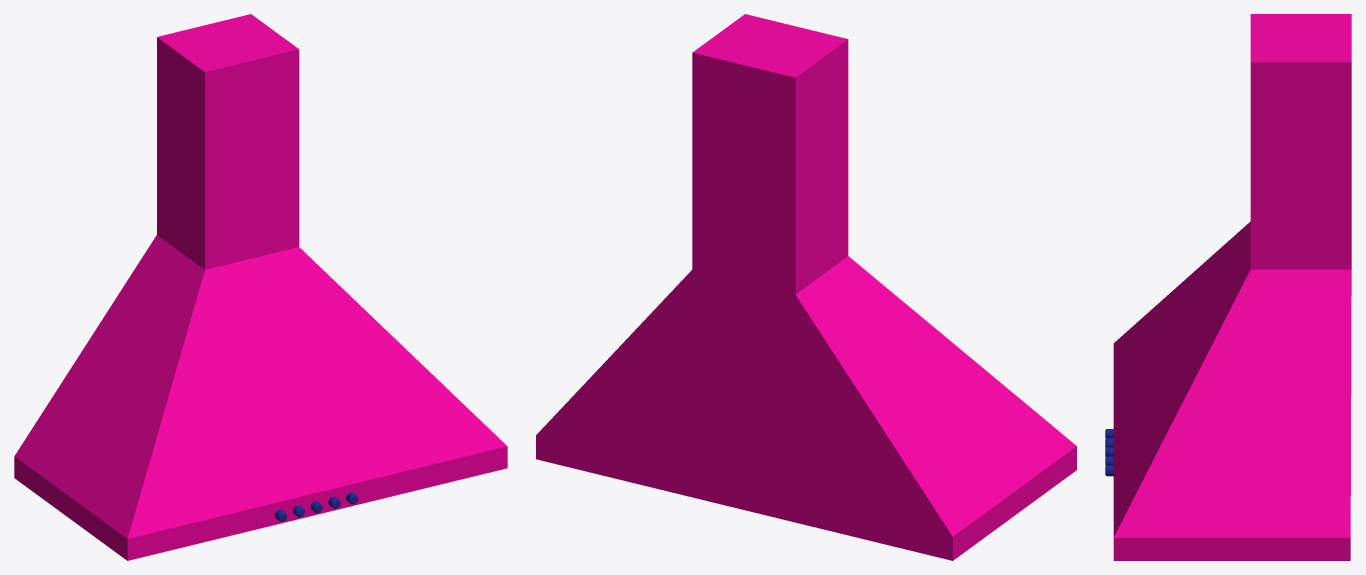
Rendered from Hood.fbx.
The picture shows the model from 3 angles, left to right: view 1: azimuth 30°, elevation 25°; view 2: azimuth 150°, elevation 25°; view 3: azimuth 270°, elevation 25°; orthographic projection. The views are drawn at different scales.
Parts seen in each view (by area): view 1: Box001; view 2: Box001; view 3: Box001.
Part boxes in pixels (x1=…): Box001: x1=14, y1=14, x2=507, y2=560; Box001: x1=536, y1=14, x2=1076, y2=560; Box001: x1=1105, y1=14, x2=1351, y2=560.
Bounding box in the file's own units: 163 × 167 × 87.43.
